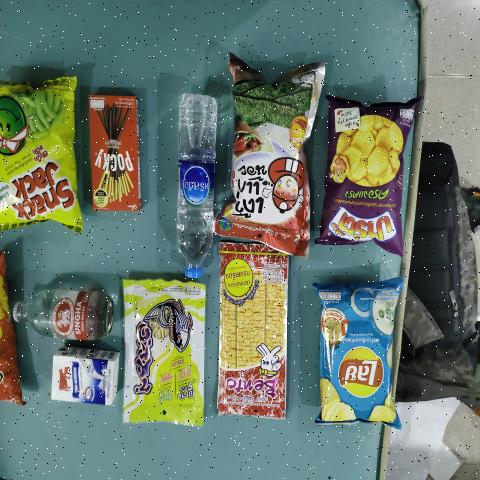bento_red: (221, 253, 285, 418)
crystal: (176, 81, 213, 281)
lay_blue: (326, 299, 389, 421)
party_purple: (332, 108, 396, 243)
pokki: (87, 87, 143, 208)
singha_soda: (9, 278, 114, 340)
snack_jack: (0, 89, 71, 216)
taokaenoi: (232, 78, 304, 240)
taro_yellow: (125, 285, 201, 425)
thai_denmark: (52, 352, 113, 401)
